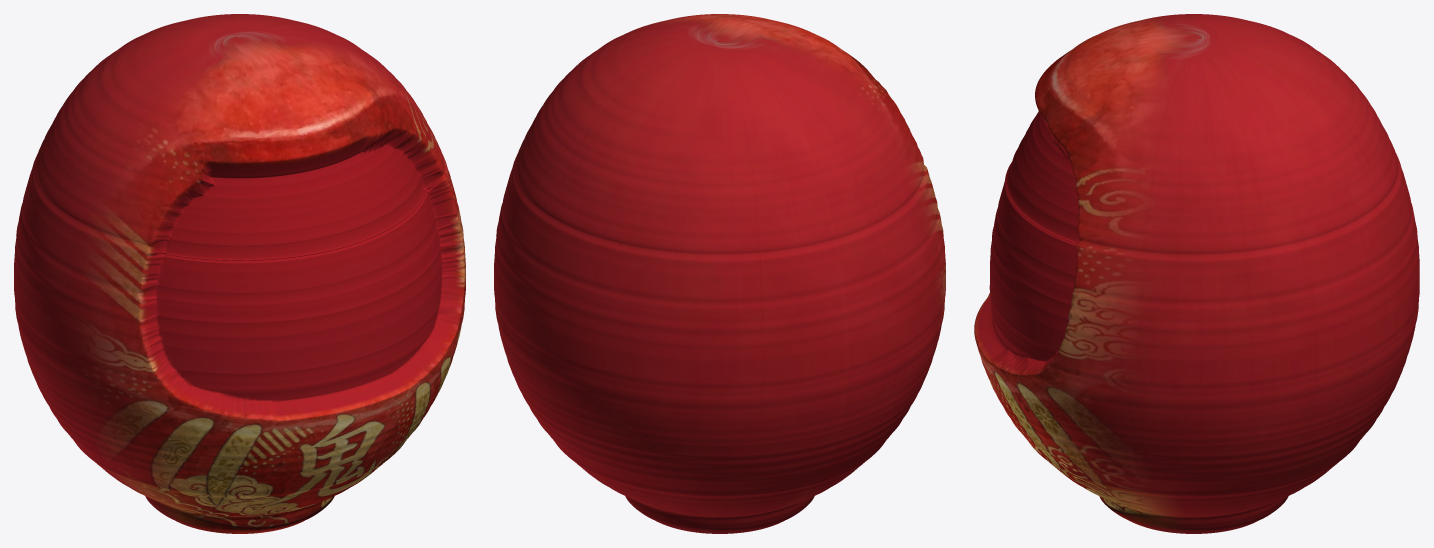
The model's file is body.glb.
The picture shows the model from 3 angles, left to right: view 1: azimuth 30°, elevation 25°; view 2: azimuth 150°, elevation 25°; view 3: azimuth 270°, elevation 25°; orthographic projection.
Visible parts, largest first — view 1: Body; view 2: Body; view 3: Body.
Part boxes in pixels (box(x1,y1,x2,y2)): Body: box(14, 14, 465, 533); Body: box(494, 14, 945, 533); Body: box(974, 14, 1419, 533).
Bounding box in the file's own units: 0.8694 × 1 × 0.8575.
Materials: 1 (1 with a texture image).
